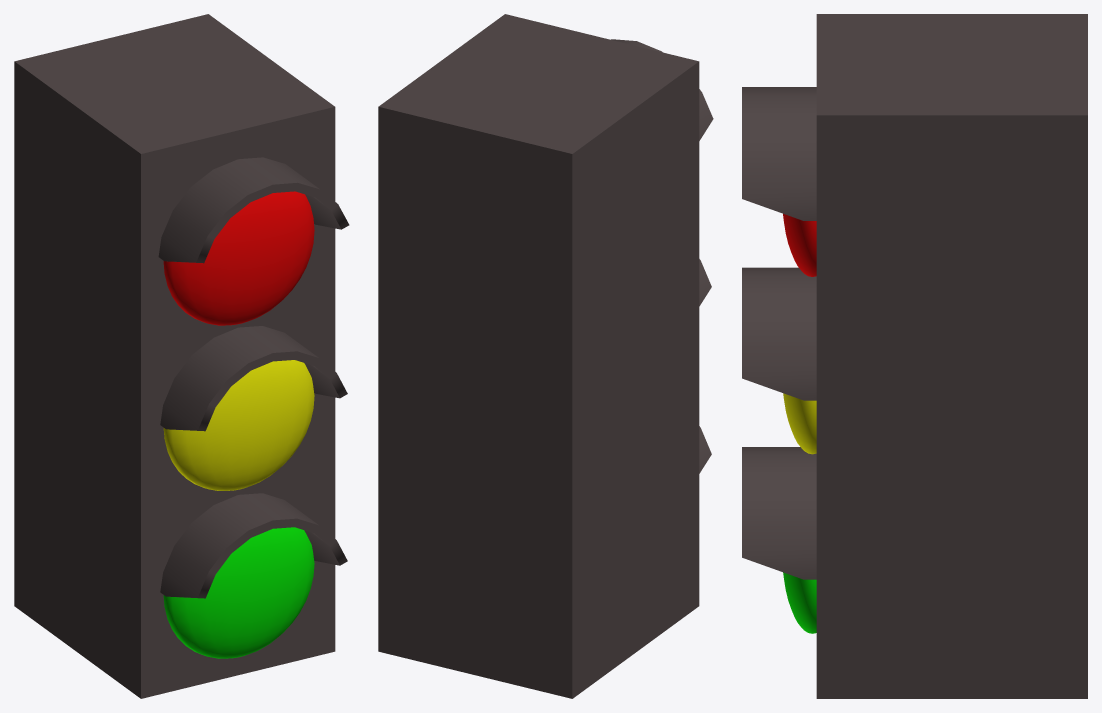
Rendered from traffic light.fbx.
3 views of the same model, side by side, from view 1: azimuth 30°, elevation 25°; view 2: azimuth 150°, elevation 25°; view 3: azimuth 270°, elevation 25° (orthographic). The views are drawn at different scales.
Parts seen in each view (by area): view 1: pSphere4; view 2: pSphere4; view 3: pSphere4.
Boxes of the visible parts, x1,y1,x2,y2 form: pSphere4: (14,14,349,698); pSphere4: (378,14,713,698); pSphere4: (742,14,1087,698).
Size of the model in its own units: 0.5722 by 1.54 by 0.8244.
